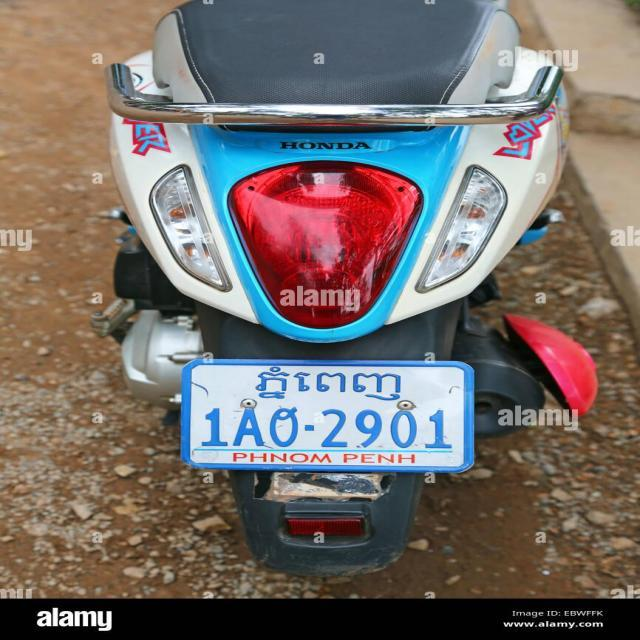Phnom_Penh: (254, 366, 401, 401)
